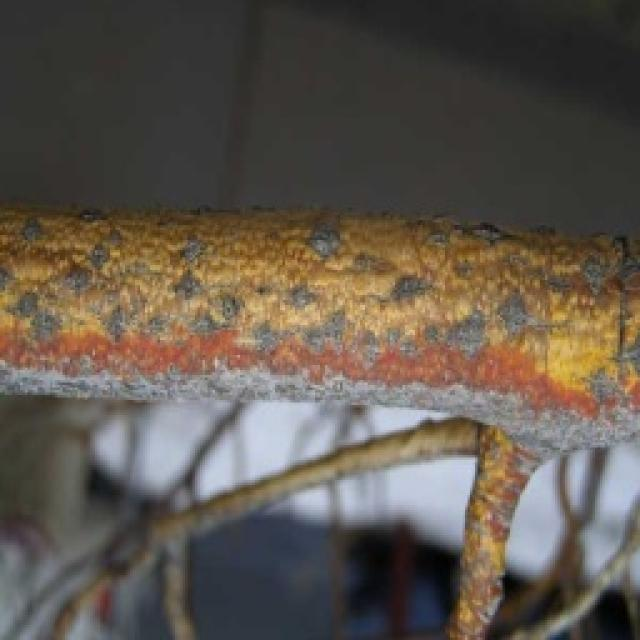Chlorosis: (0, 192, 638, 452)
